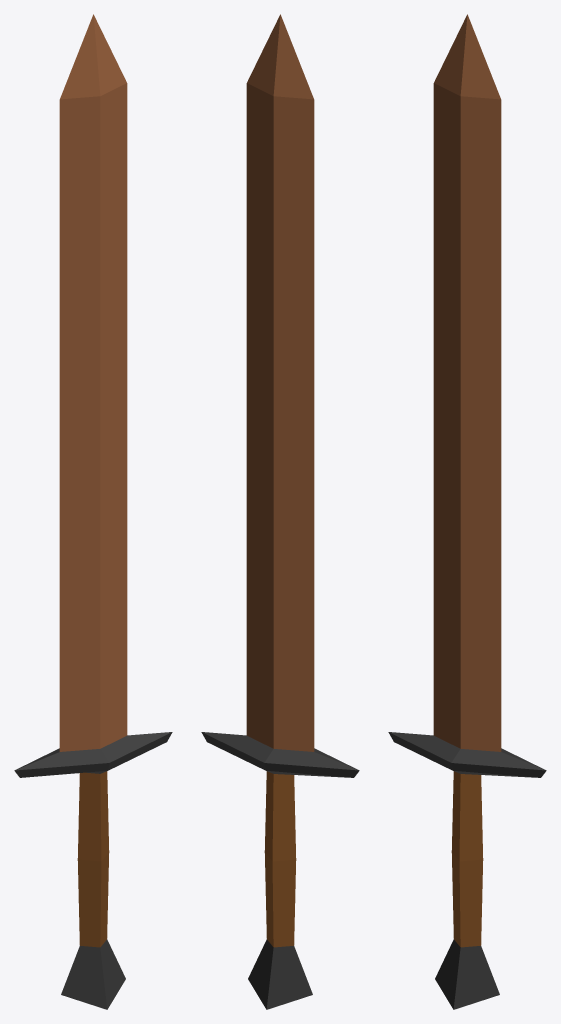
Rendered from Sword1star.fbx.
3 renders of one model, left to right at view 1: azimuth 30°, elevation 25°; view 2: azimuth 150°, elevation 25°; view 3: azimuth 330°, elevation 25°, orthographic.
Visible parts, largest first — view 1: Cylinder; view 2: Cylinder; view 3: Cylinder.
Boxes of the visible parts, left/top/right/bottom form: Cylinder: left=14, top=14, right=172, bottom=1009; Cylinder: left=201, top=14, right=359, bottom=1009; Cylinder: left=388, top=14, right=546, bottom=1009.
Bounding box in the file's own units: 233 × 1383 × 81.62.
